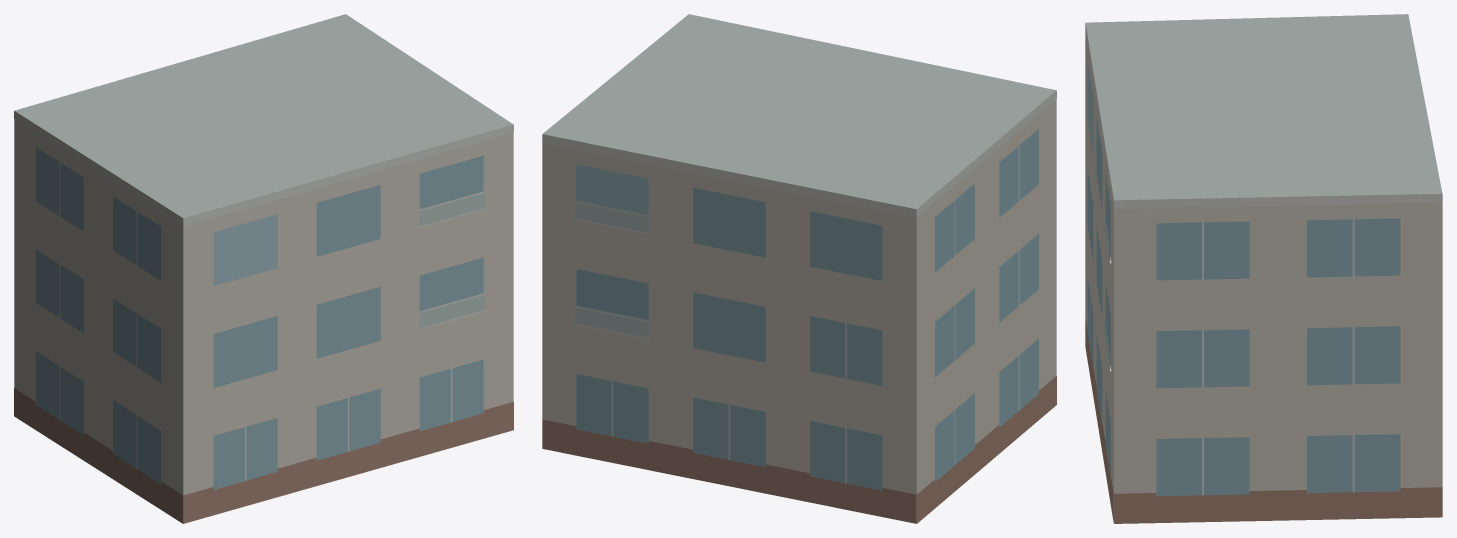
The model's file is survey-upis-32766168.glb.
3 renders of one model, left to right at view 1: azimuth 30°, elevation 25°; view 2: azimuth 150°, elevation 25°; view 3: azimuth 270°, elevation 25°, orthographic. The views are drawn at different scales.
Visible parts, largest first — view 1: survey-upis-32766168.tmp; view 2: survey-upis-32766168.tmp; view 3: survey-upis-32766168.tmp.
Part boxes in pixels (x1,y1,x2,y2): survey-upis-32766168.tmp: [14, 14, 513, 523]; survey-upis-32766168.tmp: [542, 14, 1056, 523]; survey-upis-32766168.tmp: [1085, 14, 1442, 523].
Size of the model in its own units: 11.3 by 9.15 by 9.16.
